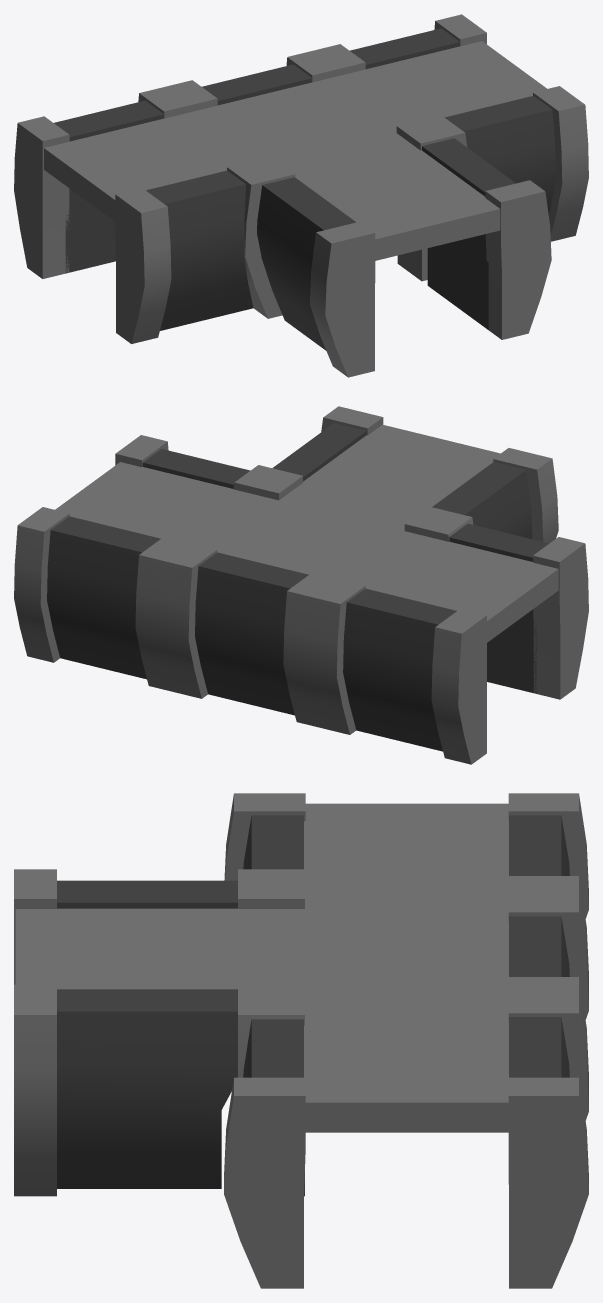
The model's file is mesh_stone_harbour_t_intersection.fbx.
The picture shows the model from 3 angles, top to bottom: view 1: azimuth 30°, elevation 25°; view 2: azimuth 150°, elevation 25°; view 3: azimuth 270°, elevation 25°; orthographic projection. The views are drawn at different scales.
Visible parts, largest first — view 1: stone_harbour_t_intersection; view 2: stone_harbour_t_intersection; view 3: stone_harbour_t_intersection.
Part boxes in pixels (x1,y1,x2,y2): stone_harbour_t_intersection: (14,14,588,377); stone_harbour_t_intersection: (14,406,588,764); stone_harbour_t_intersection: (14,793,588,1288).
Bounding box in the file's own units: 2151 × 639 × 1726.
Materials: 1 (1 with a texture image).
